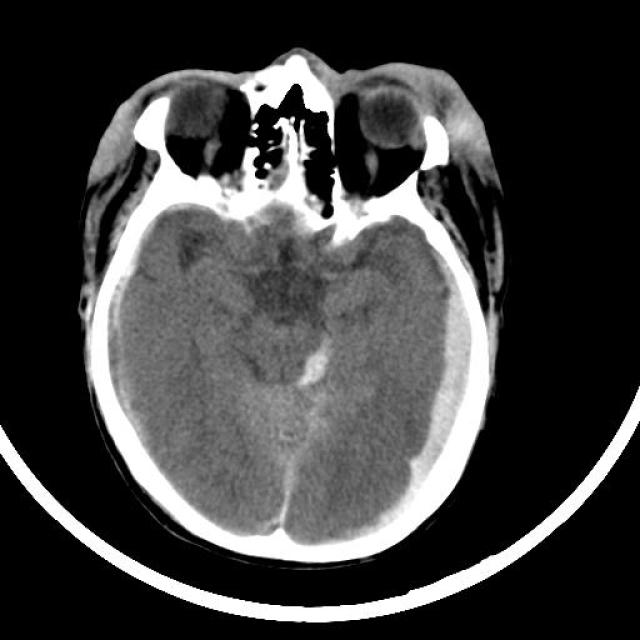Subdural: (375, 243, 493, 546)
